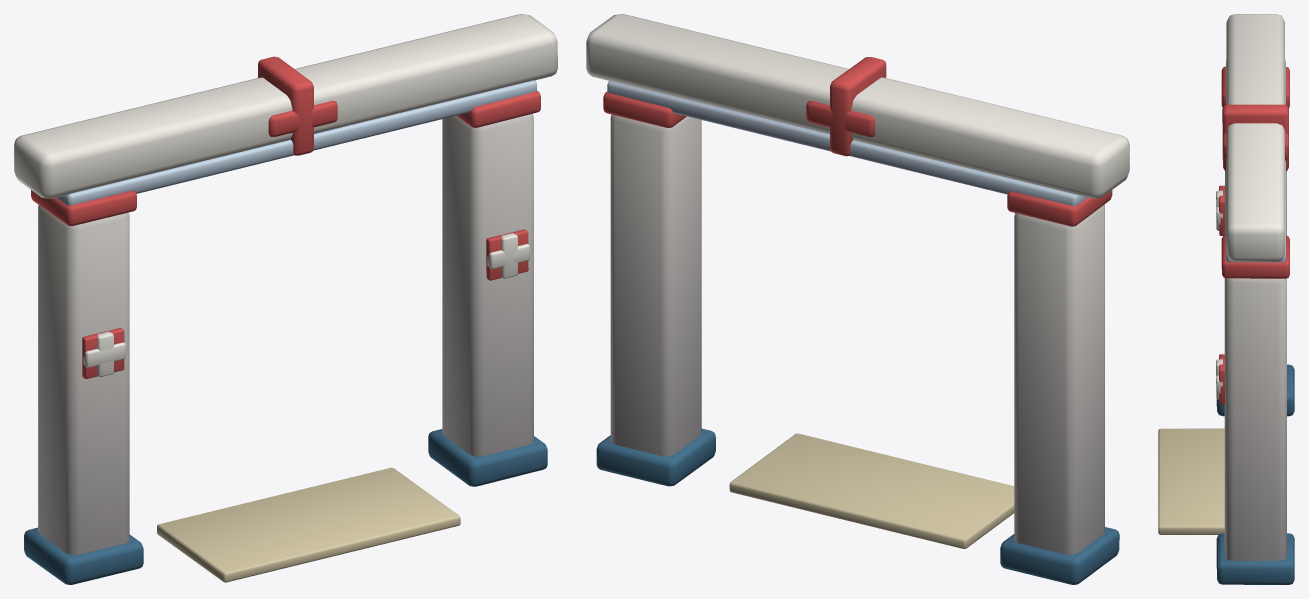
3 views of the same model, side by side, from view 1: azimuth 30°, elevation 25°; view 2: azimuth 150°, elevation 25°; view 3: azimuth 270°, elevation 25° (orthographic). The views are drawn at different scales.
Parts seen in each view (by area): view 1: gate_515a75a6; view 2: gate_515a75a6; view 3: gate_515a75a6.
Boxes of the visible parts, x1,y1,x2,y2 form: gate_515a75a6: (14, 14, 557, 584); gate_515a75a6: (586, 14, 1129, 584); gate_515a75a6: (1158, 14, 1294, 584).
Bounding box in the file's own units: 5.24 × 4.29 × 1.4.
